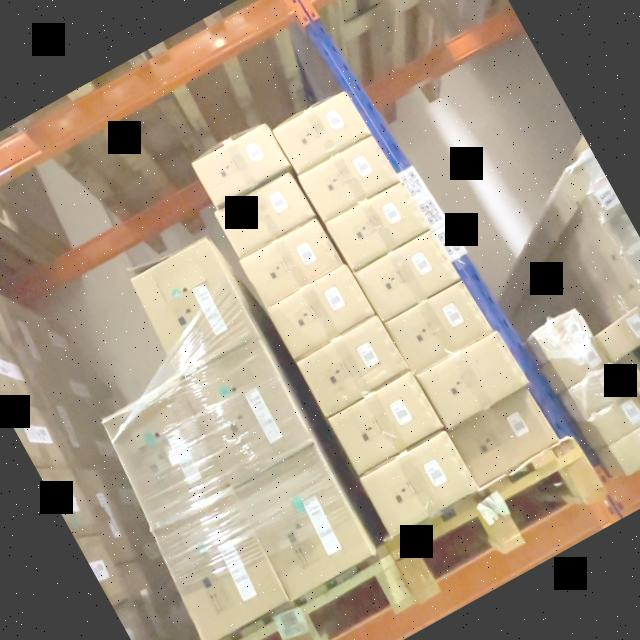box: (151, 490, 290, 640), (236, 448, 374, 596), (185, 340, 316, 483), (104, 386, 234, 526), (130, 237, 259, 373), (360, 432, 478, 536), (329, 374, 443, 474), (296, 318, 408, 416), (450, 386, 560, 484), (266, 264, 376, 359), (421, 331, 529, 427), (388, 281, 492, 374), (240, 218, 345, 310), (356, 230, 460, 321), (327, 181, 429, 270), (213, 171, 314, 258), (300, 136, 400, 223), (272, 88, 373, 174), (193, 124, 289, 208), (574, 362, 634, 416), (534, 308, 594, 360), (553, 336, 612, 388), (593, 391, 640, 444), (595, 306, 640, 361), (602, 205, 640, 256), (623, 352, 640, 449), (611, 422, 640, 475), (623, 242, 640, 284)
